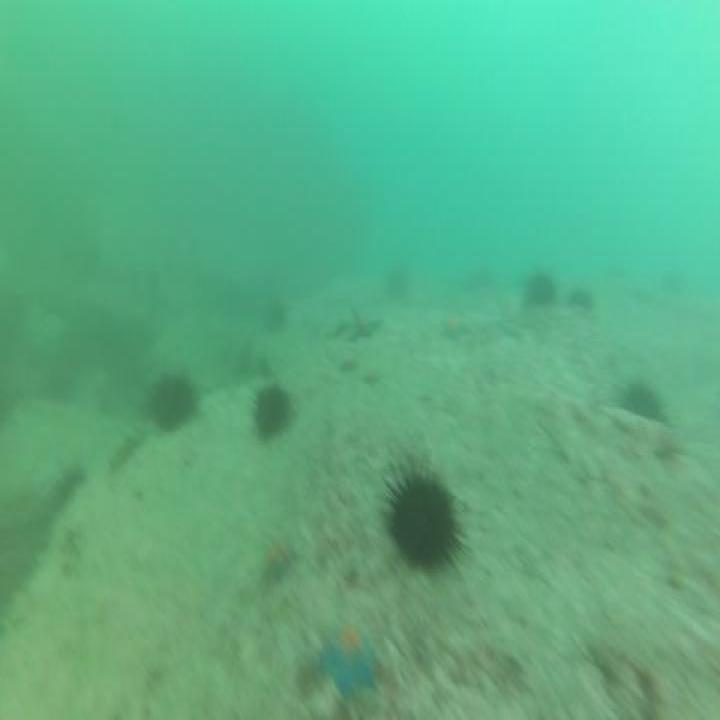echinus: (382, 453, 471, 578), (144, 370, 203, 437), (249, 377, 299, 446), (616, 372, 667, 428), (519, 265, 559, 316), (54, 460, 87, 506), (381, 256, 410, 302), (259, 294, 288, 340), (567, 278, 598, 316)
starfish: (315, 617, 381, 704), (259, 532, 301, 588)
